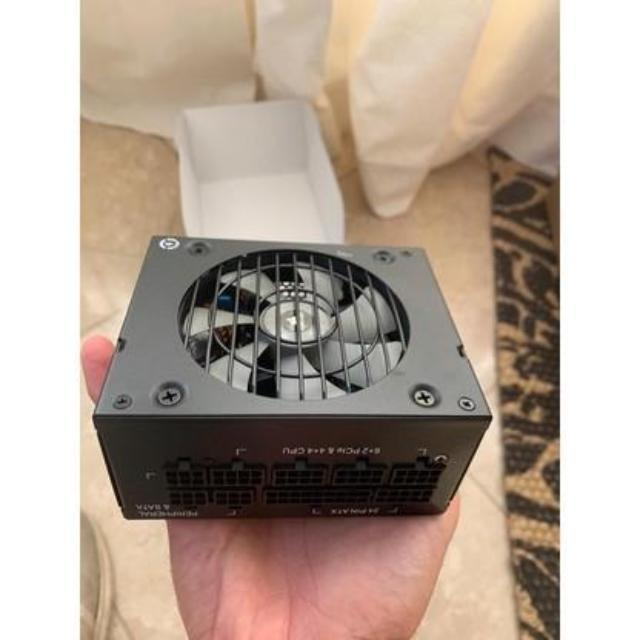PSU: (83, 230, 494, 538)
